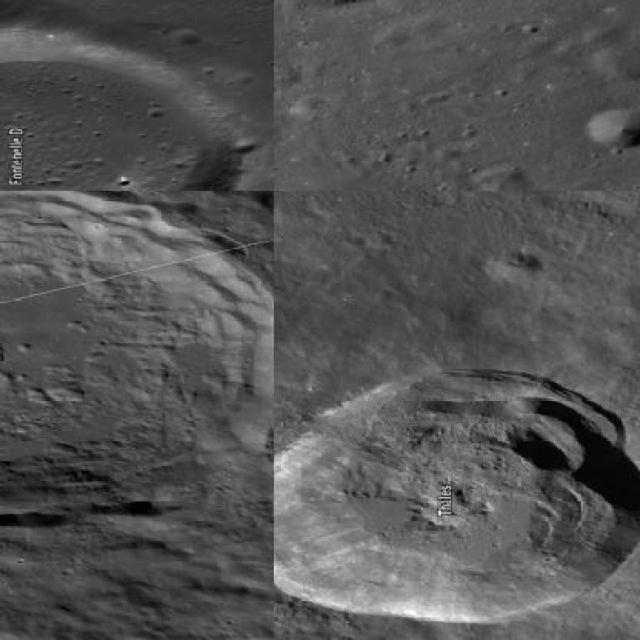crater: (274, 366, 638, 620), (0, 190, 272, 527), (0, 22, 249, 189), (584, 105, 638, 149)
